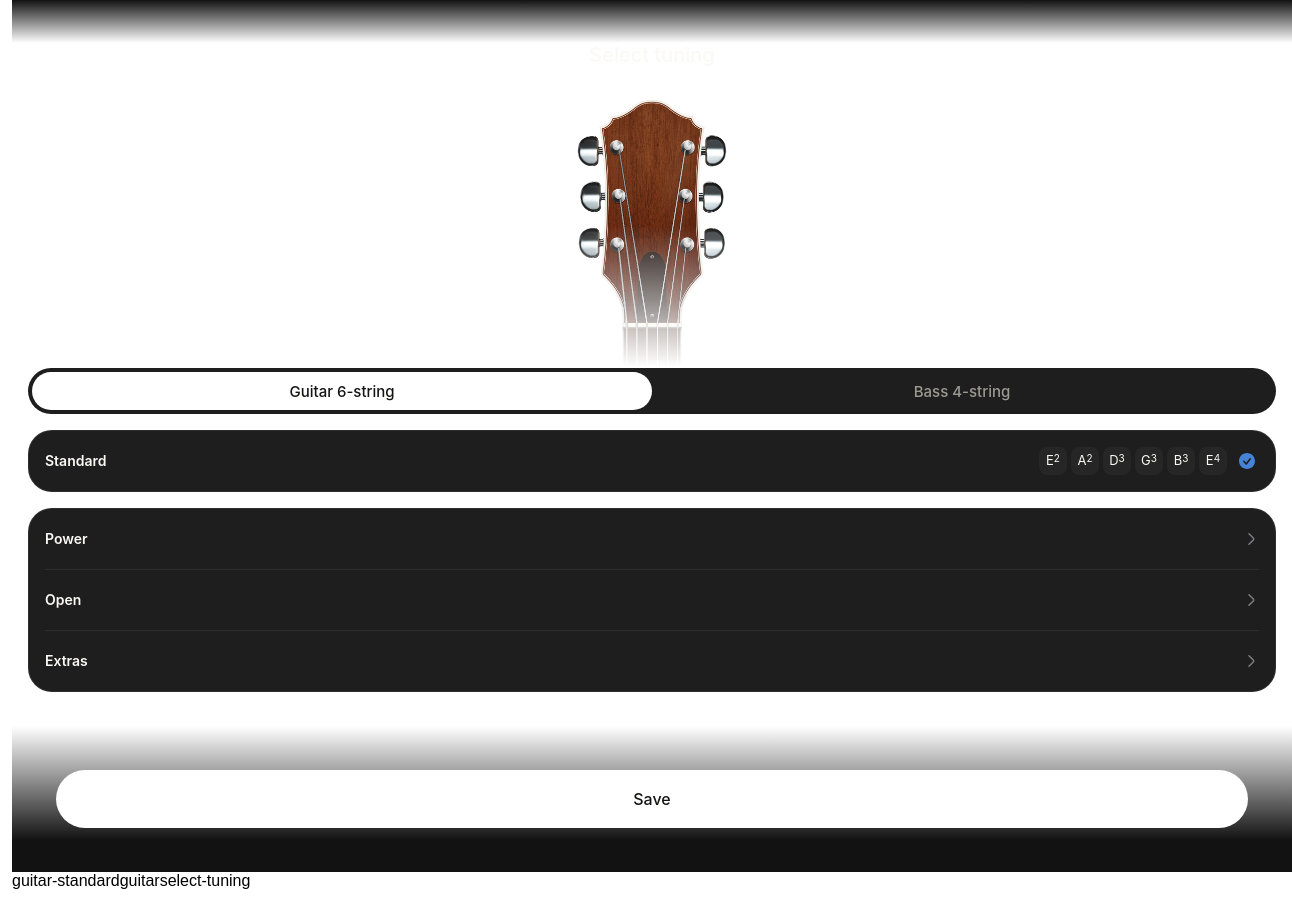
Test case: SelectTuningScreen › selects and saves a bass tuning directly, with no expand step needed
The image size is (1292, 900).
Step 1. Click the tab "Bass 4-string" → point(962, 391), box [652,372,1272,410]
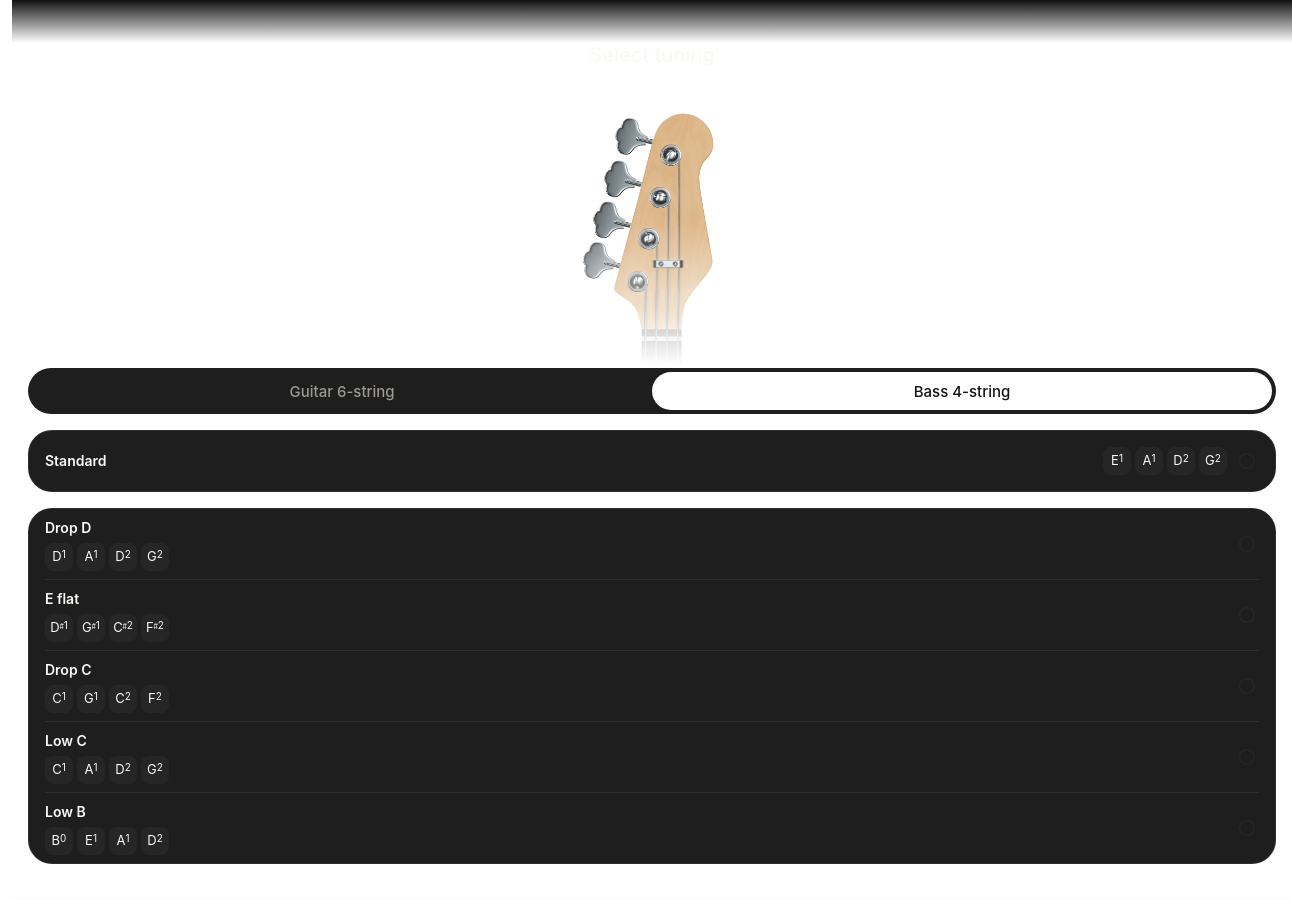
Step 2. Click the text "Low B" → point(65, 812), box [45,803,86,820]
(page scrolled)
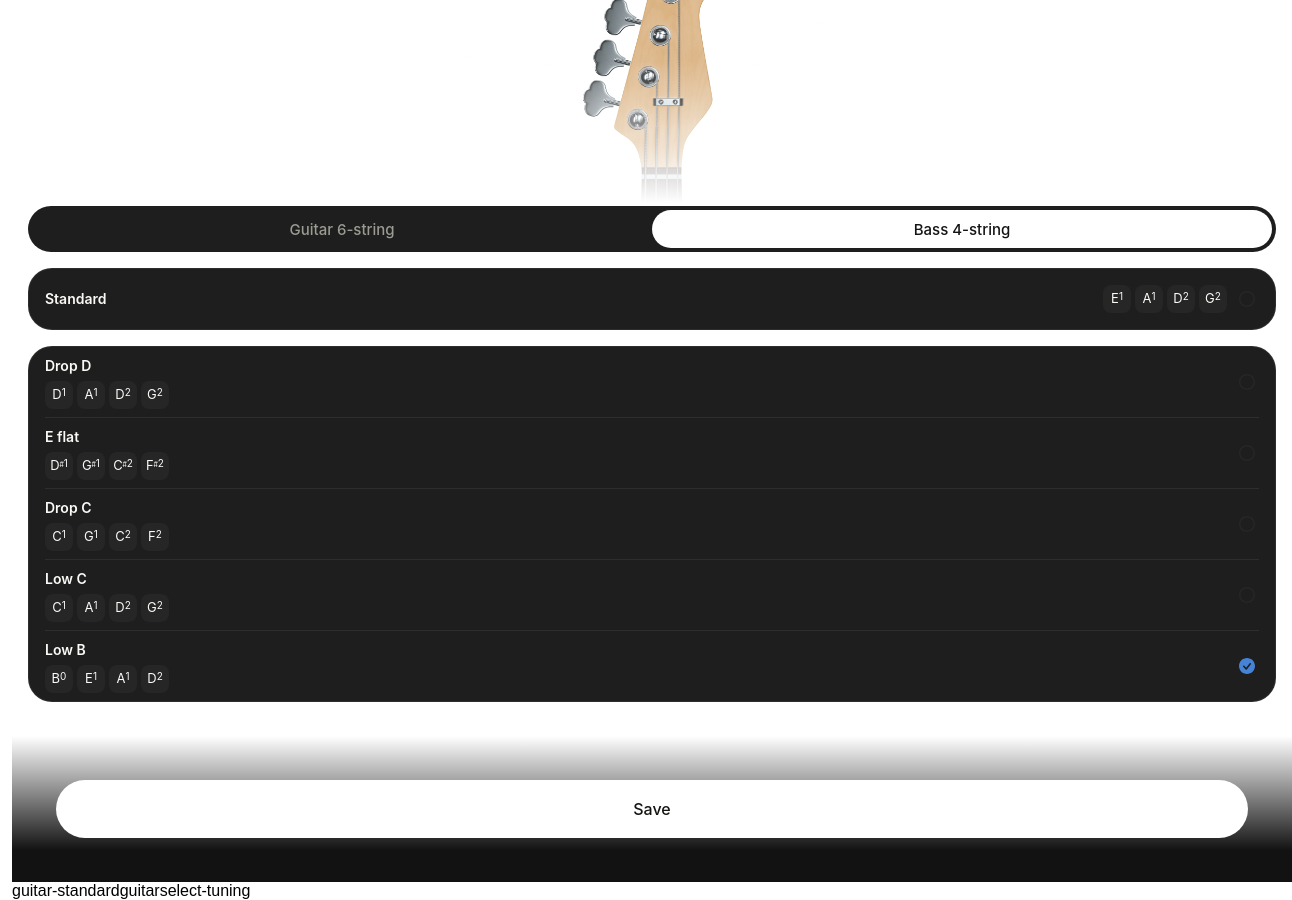
Step 3. Click the button "Save" → point(652, 809), box [56,780,1248,838]
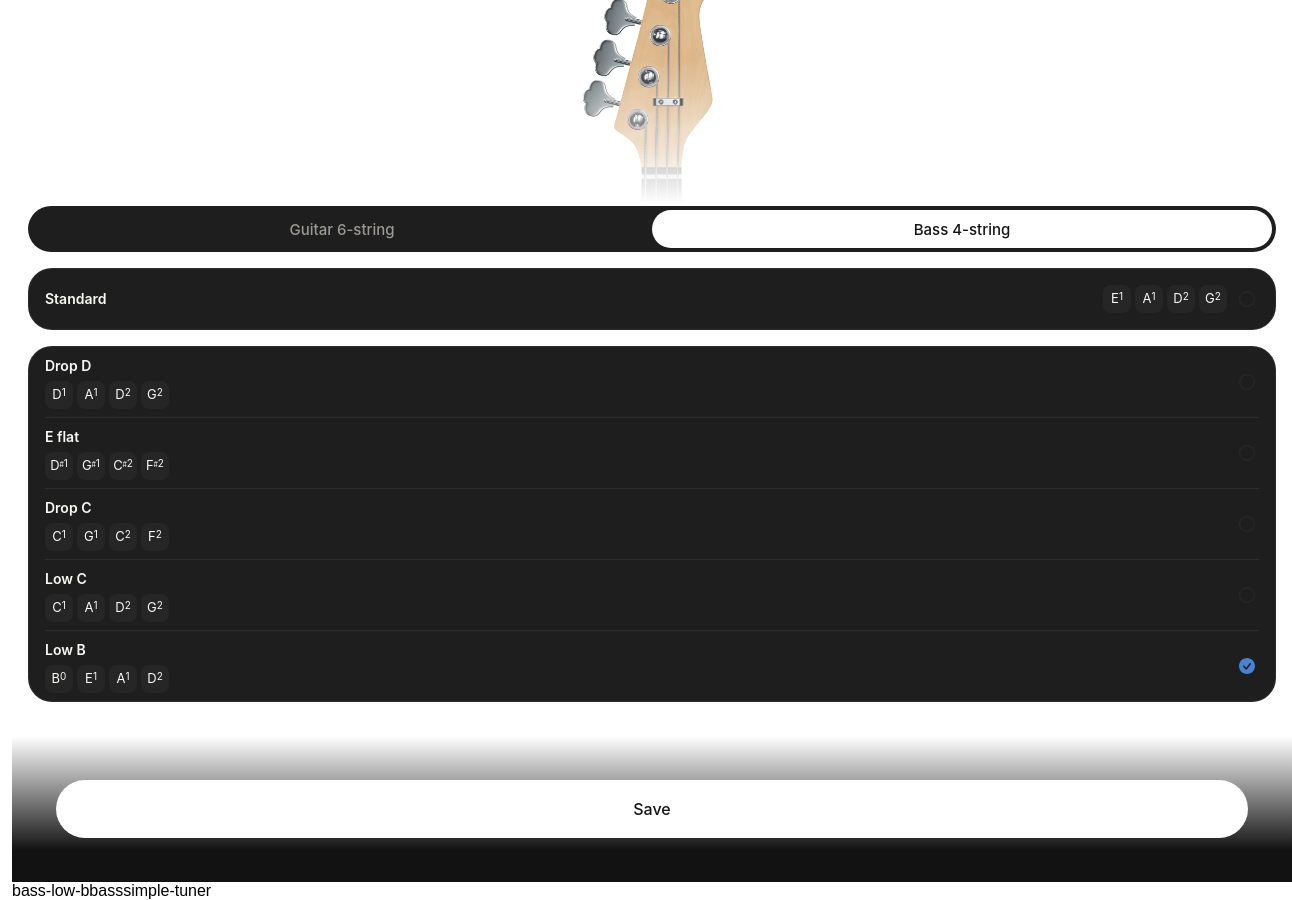
Check: the text with test id "selected-tuning" reads "bass-low-b", box [12,882,89,899]
Check: the text with test id "selected-instrument" reads "bass", box [89,882,123,899]
